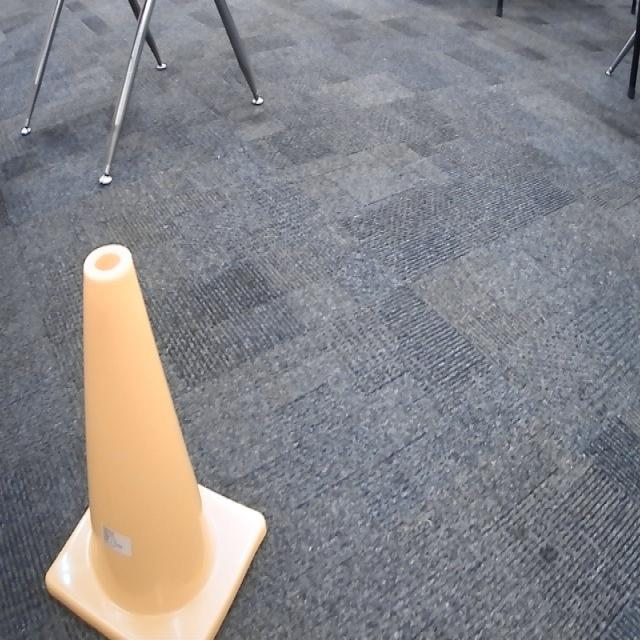cone: (44, 240, 269, 640)
